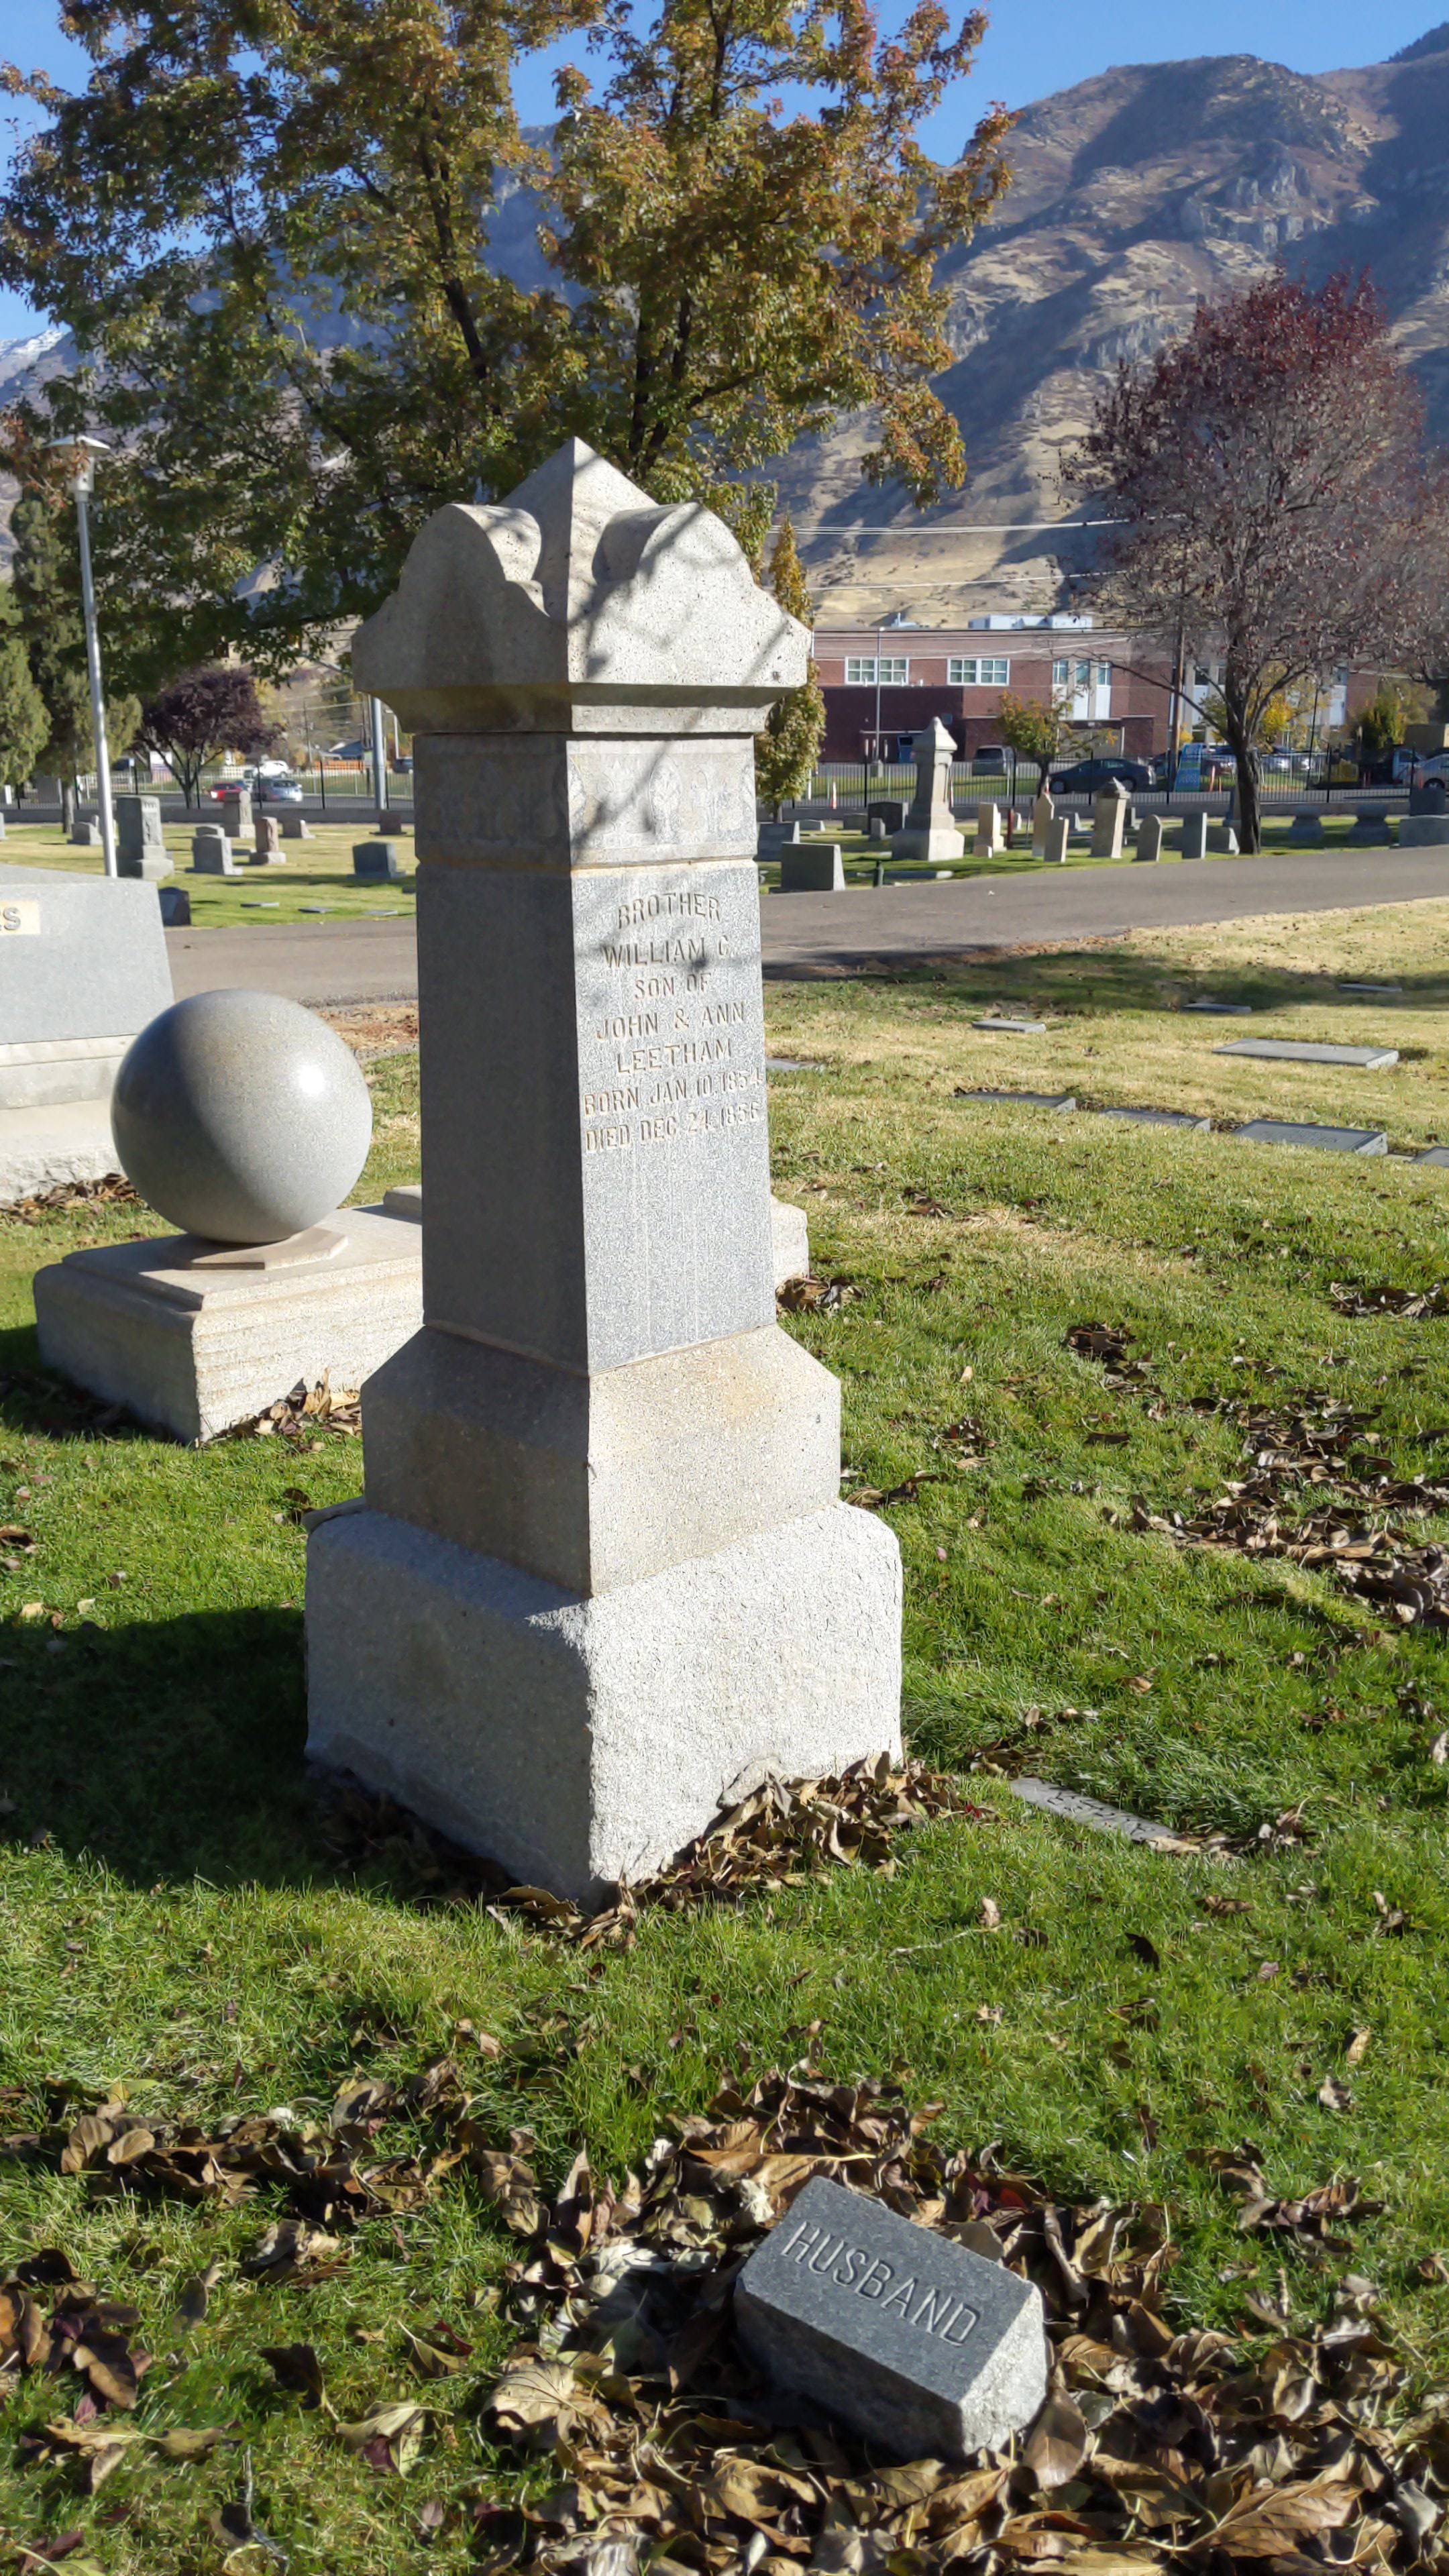obelisk: (350, 437, 832, 1587)
